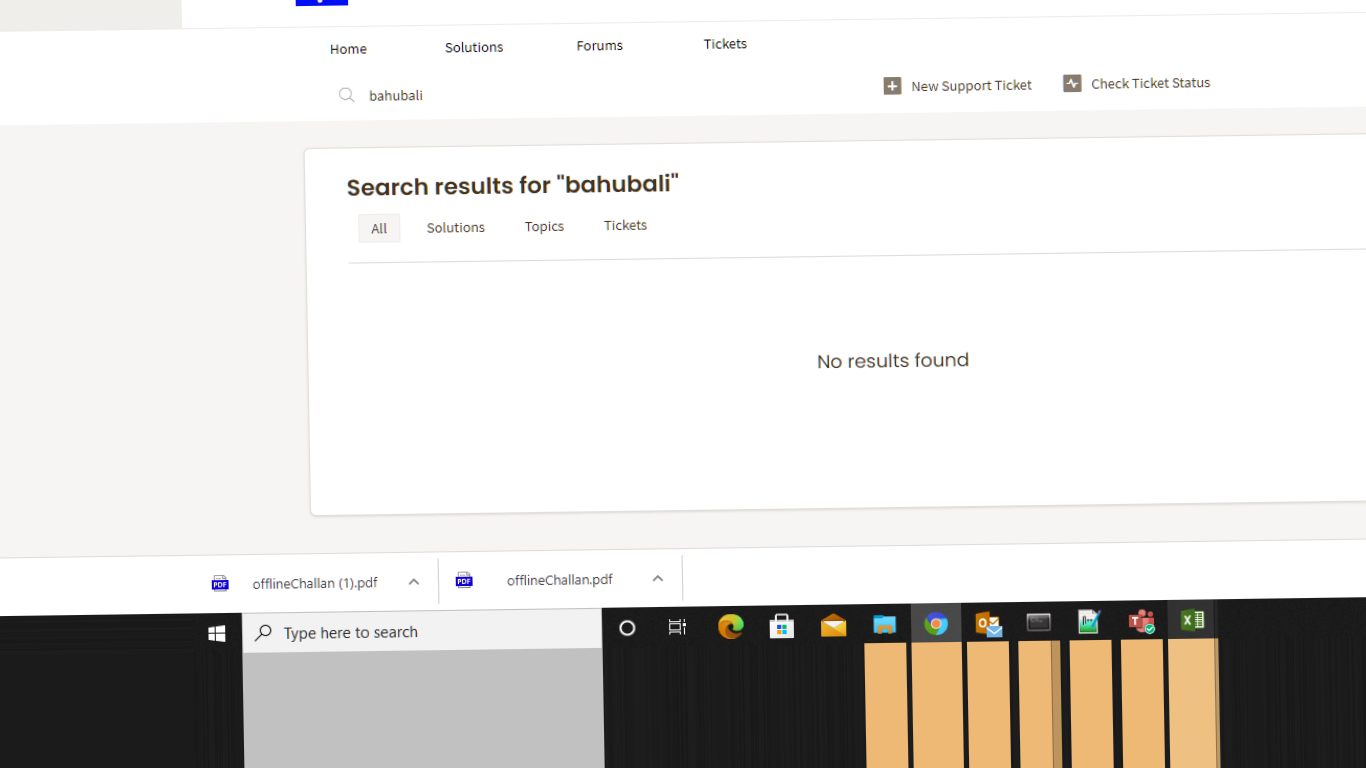noresultsfound: (770, 331, 1067, 400)
searchicon: (330, 82, 360, 116)
searchtextbox: (314, 75, 789, 114)
